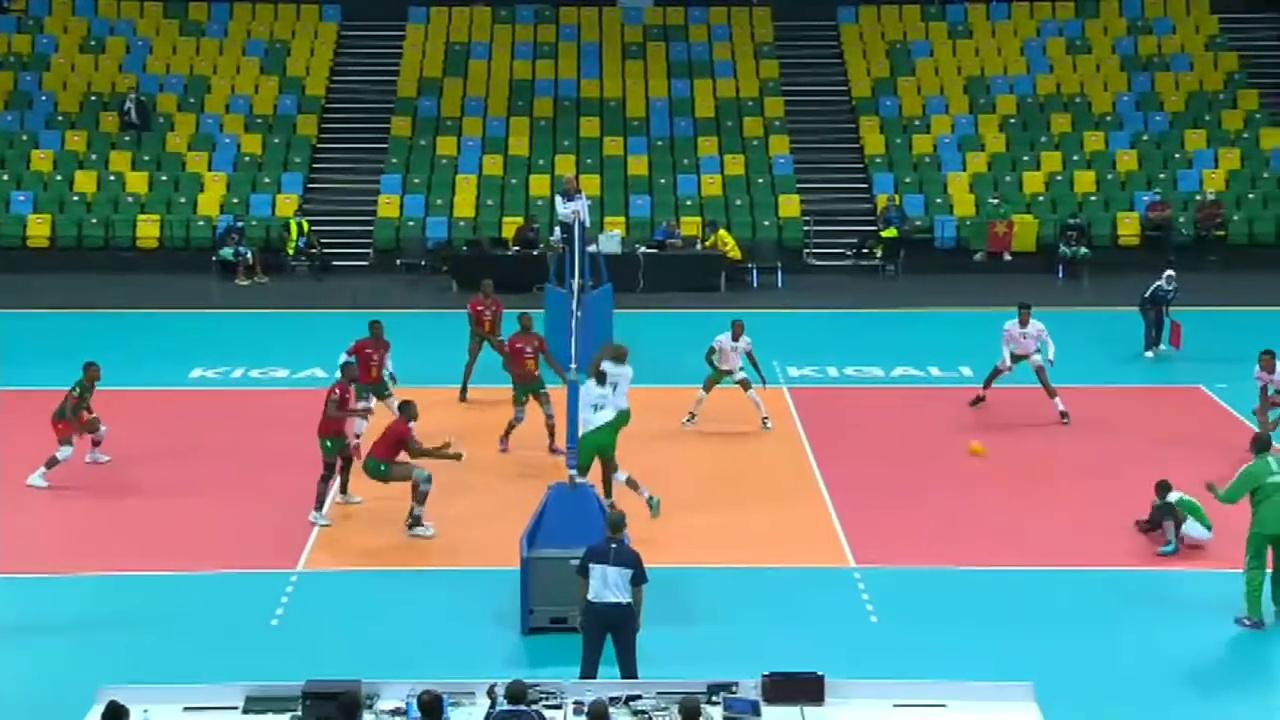player: (364, 397, 462, 541), (576, 365, 662, 519), (485, 312, 567, 458), (976, 304, 1072, 420), (30, 363, 113, 482), (687, 319, 772, 429), (341, 311, 409, 435), (589, 341, 634, 524), (461, 277, 520, 409), (314, 356, 359, 519), (1132, 478, 1216, 561), (1248, 339, 1280, 446)
refree: (572, 506, 651, 684), (551, 177, 589, 281), (1141, 266, 1183, 358)
